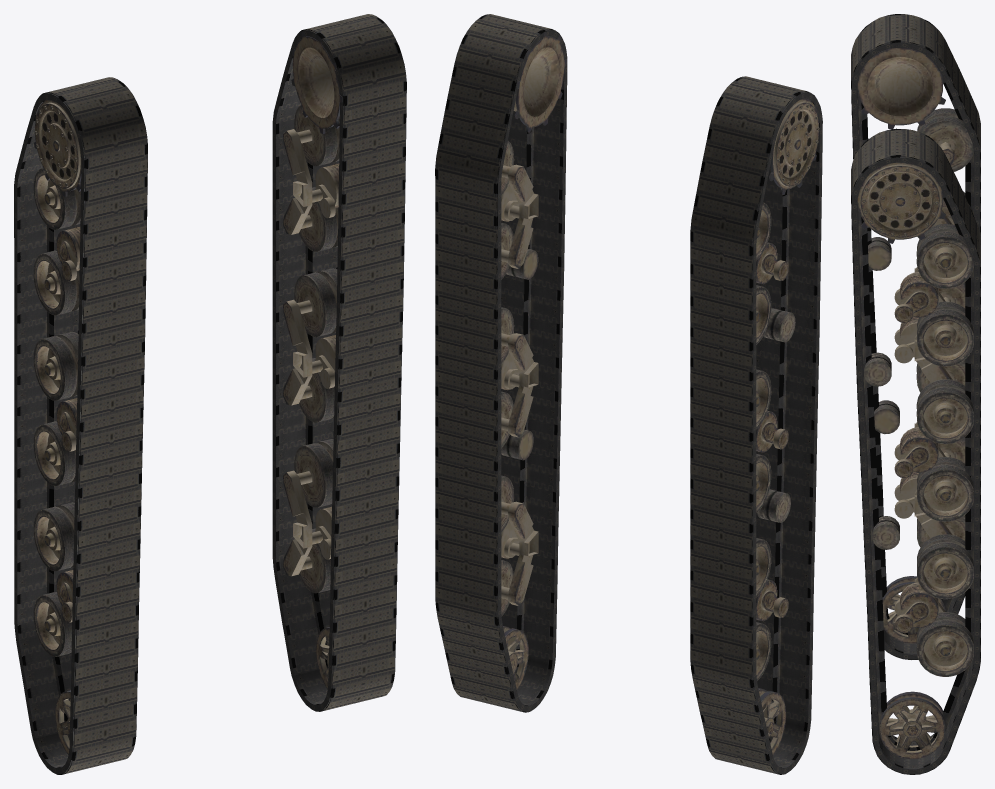
The model's file is Chassis.glb.
3 views of the same model, side by side, from view 1: azimuth 30°, elevation 25°; view 2: azimuth 150°, elevation 25°; view 3: azimuth 270°, elevation 25° (orthographic). The views are drawn at different scales.
Parts seen in each view (by area): view 1: set_0_group_0, set_1_group_0, set_3_group_0, set_2_group_0; view 2: set_0_group_0, set_1_group_0, set_3_group_0, set_2_group_0; view 3: set_3_group_0, set_1_group_0, set_2_group_0, set_0_group_0.
Part boxes in pixels (bbox=[...]): set_0_group_0: bbox=[14, 77, 147, 774]; set_1_group_0: bbox=[272, 14, 406, 711]; set_3_group_0: bbox=[283, 31, 342, 688]; set_2_group_0: bbox=[33, 99, 81, 754]; set_0_group_0: bbox=[690, 76, 822, 774]; set_1_group_0: bbox=[435, 14, 567, 712]; set_3_group_0: bbox=[501, 32, 567, 689]; set_2_group_0: bbox=[756, 98, 819, 754]; set_3_group_0: bbox=[857, 162, 973, 759]; set_1_group_0: bbox=[851, 128, 980, 774]; set_2_group_0: bbox=[857, 48, 973, 643]; set_0_group_0: bbox=[851, 14, 980, 659].
Bounding box in the file's own units: 3.31 × 6.58 × 1.25.
4 materials, 4 textured.
